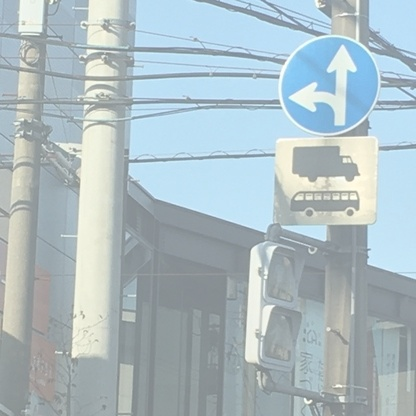Direction_sign: (267, 39, 388, 135)
